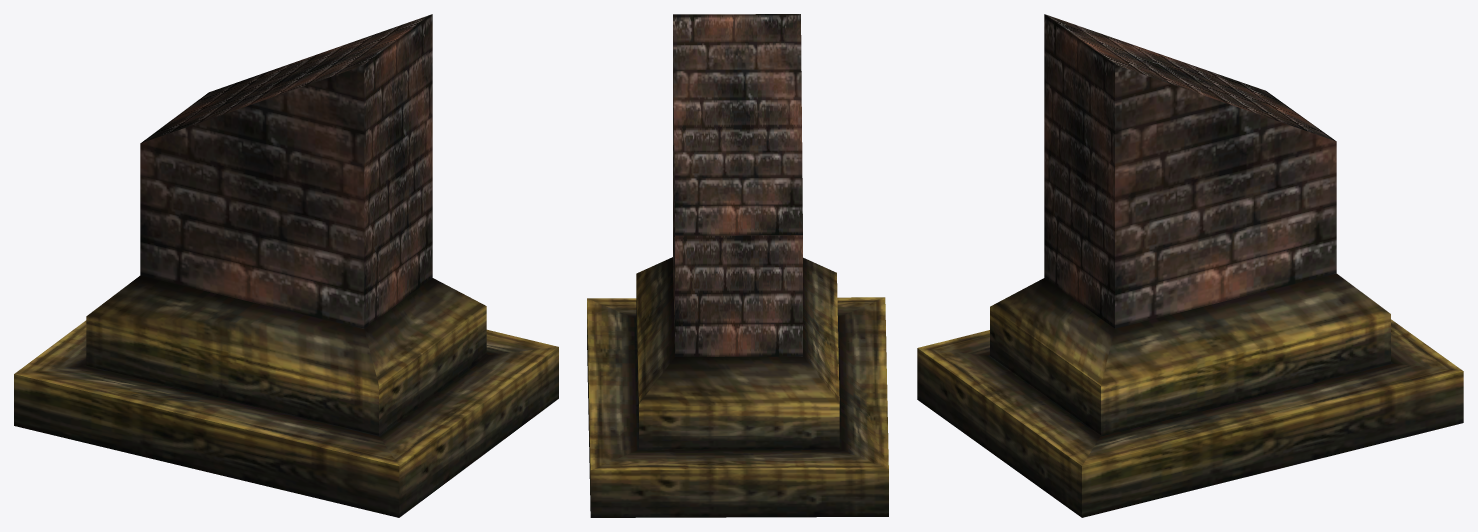
File: CB_NEWPLAYSURFACE_GANDALF_COLUMNBASE.fbx
3 renders of one model, left to right at view 1: azimuth 30°, elevation 25°; view 2: azimuth 150°, elevation 25°; view 3: azimuth 270°, elevation 25°, orthographic. The views are drawn at different scales.
Visible parts, largest first — view 1: CB_NEWPLAYSURFACE_GANDALF_COLUMNBASE; view 2: CB_NEWPLAYSURFACE_GANDALF_COLUMNBASE; view 3: CB_NEWPLAYSURFACE_GANDALF_COLUMNBASE.
Boxes of the visible parts, x1,y1,x2,y2 form: CB_NEWPLAYSURFACE_GANDALF_COLUMNBASE: (14,14,558,517); CB_NEWPLAYSURFACE_GANDALF_COLUMNBASE: (587,14,888,517); CB_NEWPLAYSURFACE_GANDALF_COLUMNBASE: (917,14,1463,517).
Size of the model in its own units: 58229 by 50908 by 63057.
2 materials, 2 textured.
